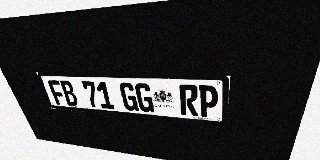1: (94, 82, 115, 109)
7: (81, 81, 101, 108)
B: (59, 80, 79, 106)
F: (47, 80, 68, 105)
G: (134, 83, 154, 113), (119, 82, 139, 111)
P: (199, 85, 219, 118)
R: (179, 84, 198, 116)
